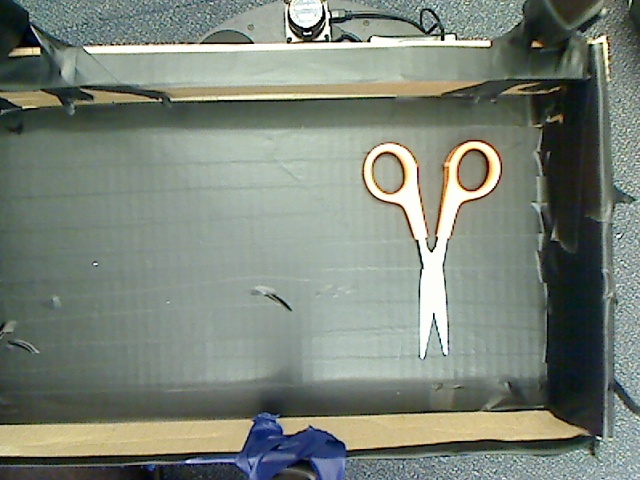scissors: (354, 129, 509, 366)
